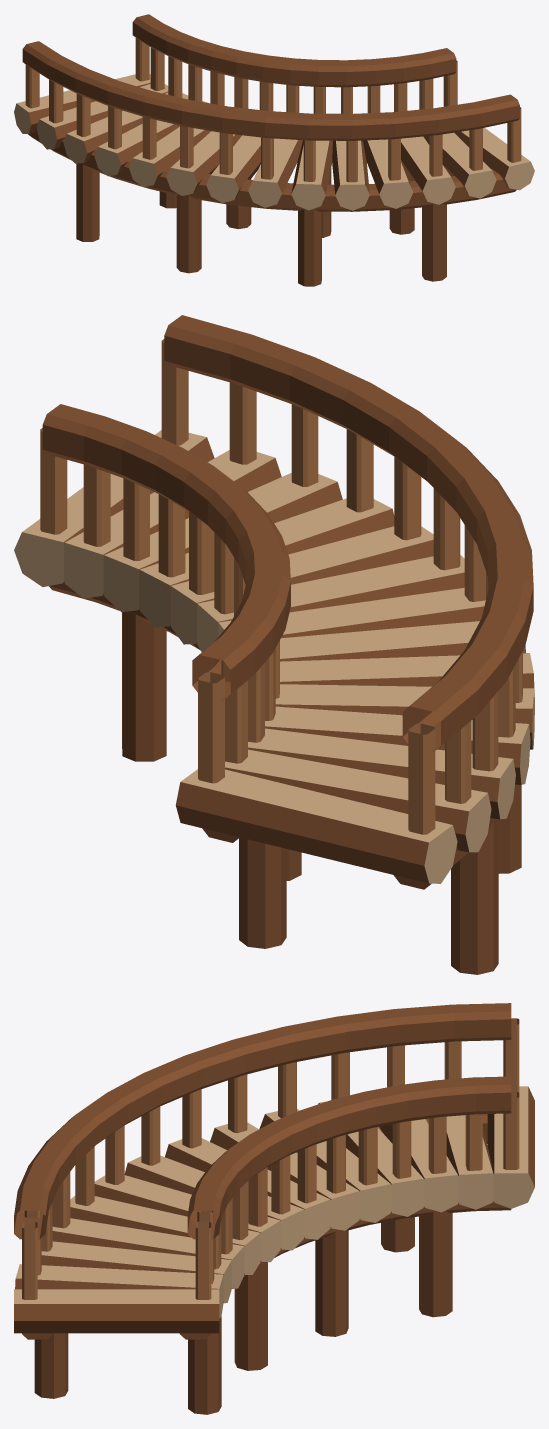
Rendered from Track_Bridge_Curve_3x3.obj.
3 views of the same model, one above another, from view 1: azimuth 30°, elevation 25°; view 2: azimuth 150°, elevation 25°; view 3: azimuth 270°, elevation 25° (orthographic). The views are drawn at different scales.
Parts seen in each view (by area): view 1: Bridge_Rail, Bridge_Rail_Support, Log_Plank_Top, Bridge_Pier, Log_Plank_End, Log_Plank_Bark, Bridge_Support_Beam; view 2: Bridge_Rail, Log_Plank_Top, Bridge_Rail_Support, Log_Plank_Bark, Bridge_Pier, Log_Plank_End, Bridge_Support_Beam; view 3: Bridge_Rail, Bridge_Rail_Support, Log_Plank_Top, Bridge_Pier, Log_Plank_Bark, Log_Plank_End, Bridge_Support_Beam.
Part boxes in pixels (x1,y1,x2,y2): Bridge_Rail: (22, 14, 519, 140); Bridge_Rail_Support: (25, 38, 521, 182); Log_Plank_Top: (17, 74, 530, 184); Bridge_Pier: (76, 163, 446, 286); Log_Plank_End: (14, 103, 534, 210); Log_Plank_Bark: (29, 83, 508, 200); Bridge_Support_Beam: (28, 126, 516, 211); Bridge_Rail: (42, 315, 533, 751); Log_Plank_Top: (22, 430, 534, 842); Bridge_Rail_Support: (40, 339, 522, 834); Log_Plank_Bark: (63, 437, 534, 883); Bridge_Pier: (122, 611, 521, 974); Log_Plank_End: (14, 532, 534, 883); Bridge_Support_Beam: (49, 582, 492, 889); Bridge_Rail: (14, 1003, 511, 1239); Bridge_Rail_Support: (22, 1018, 519, 1299); Log_Plank_Top: (14, 1086, 528, 1303); Bridge_Pier: (34, 1210, 452, 1414); Log_Plank_Bark: (14, 1087, 534, 1333); Log_Plank_End: (219, 1173, 534, 1317); Bridge_Support_Beam: (22, 1114, 511, 1339).
Bounding box in the file's own units: 3.3 × 1.6 × 3.3.
